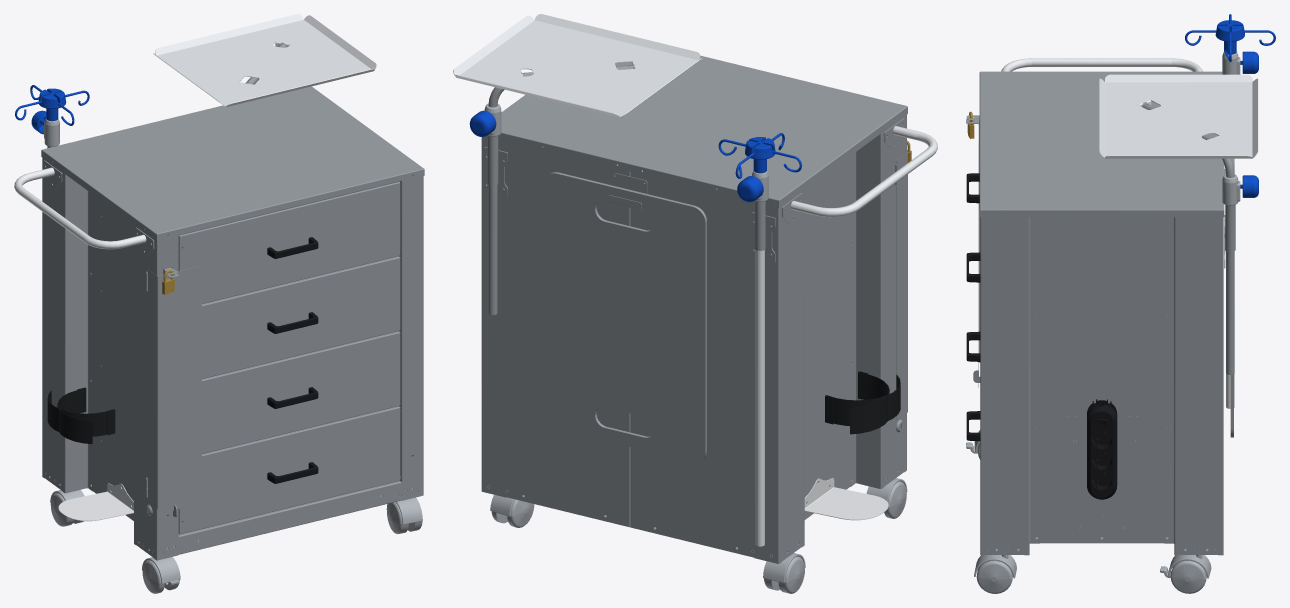
The model's file is carro-emergencia-grande.glb.
3 renders of one model, left to right at view 1: azimuth 30°, elevation 25°; view 2: azimuth 150°, elevation 25°; view 3: azimuth 270°, elevation 25°, orthographic. The views are drawn at different scales.
Parts seen in each view (by area): view 1: peca_estrutura__21, peca_gavetas__33, peca_gavetas__40, peca_gavetas__38, peca_gavetas__39, peca_trava__96, peca_estrutura__26, peca_estrutura__24, peca_desfibrilador__1, peca_estrutura__23, peca_estrutura__16, peca_estrutura__14 (+7 smaller); view 2: peca_tabua__94, peca_estrutura__26, peca_estrutura__21, peca_estrutura__22, peca_estrutura__24, peca_desfibrilador__1, peca_estrutura__16, peca_soro__85, peca_trava__96, peca_oxigenio__45, peca_alca__0, peca_oxigenio__47 (+6 smaller); view 3: peca_estrutura__25, peca_estrutura__21, peca_estrutura__22, peca_estrutura__23, peca_desfibrilador__1, peca_regua__48, peca_alca__0, peca_estrutura__15, peca_rodizios__60, peca_rodizios__50, peca_soro__86, peca_trava__96 (+4 smaller).
Part boxes in pixels (<box>): peca_estrutura__21: <box>41,86,424,240</box>; peca_gavetas__33: <box>178,181,400,303</box>; peca_gavetas__40: <box>178,406,400,534</box>; peca_gavetas__38: <box>202,256,400,378</box>; peca_gavetas__39: <box>202,331,400,453</box>; peca_trava__96: <box>147,266,201,512</box>; peca_estrutura__26: <box>42,157,91,492</box>; peca_estrutura__24: <box>88,191,133,520</box>; peca_desfibrilador__1: <box>153,14,376,107</box>; peca_estrutura__23: <box>397,174,423,500</box>; peca_estrutura__16: <box>134,225,178,559</box>; peca_estrutura__14: <box>42,476,423,560</box>; peca_tabua__94: <box>544,172,706,462</box>; peca_estrutura__26: <box>630,170,804,563</box>; peca_estrutura__21: <box>486,55,907,207</box>; peca_estrutura__22: <box>481,136,630,527</box>; peca_estrutura__24: <box>804,152,855,519</box>; peca_desfibrilador__1: <box>453,14,702,117</box>; peca_estrutura__16: <box>852,115,906,488</box>; peca_soro__85: <box>755,250,764,546</box>; peca_trava__96: <box>896,152,907,419</box>; peca_oxigenio__45: <box>804,478,888,520</box>; peca_alca__0: <box>790,126,937,217</box>; peca_oxigenio__47: <box>850,371,889,434</box>; peca_estrutura__25: <box>1030,217,1173,543</box>; peca_estrutura__21: <box>979,71,1224,217</box>; peca_estrutura__22: <box>1173,214,1223,554</box>; peca_estrutura__23: <box>980,217,1030,554</box>; peca_desfibrilador__1: <box>1099,74,1258,158</box>; peca_regua__48: <box>1087,399,1117,499</box>; peca_alca__0: <box>1001,58,1202,71</box>; peca_estrutura__15: <box>1142,103,1234,374</box>; peca_rodizios__60: <box>1170,560,1206,593</box>; peca_rodizios__50: <box>976,560,1012,593</box>; peca_soro__86: <box>1215,20,1244,54</box>; peca_trava__96: <box>966,119,980,387</box>.
Bounding box in the file's own units: 0.7378 × 0.906 × 0.57.
